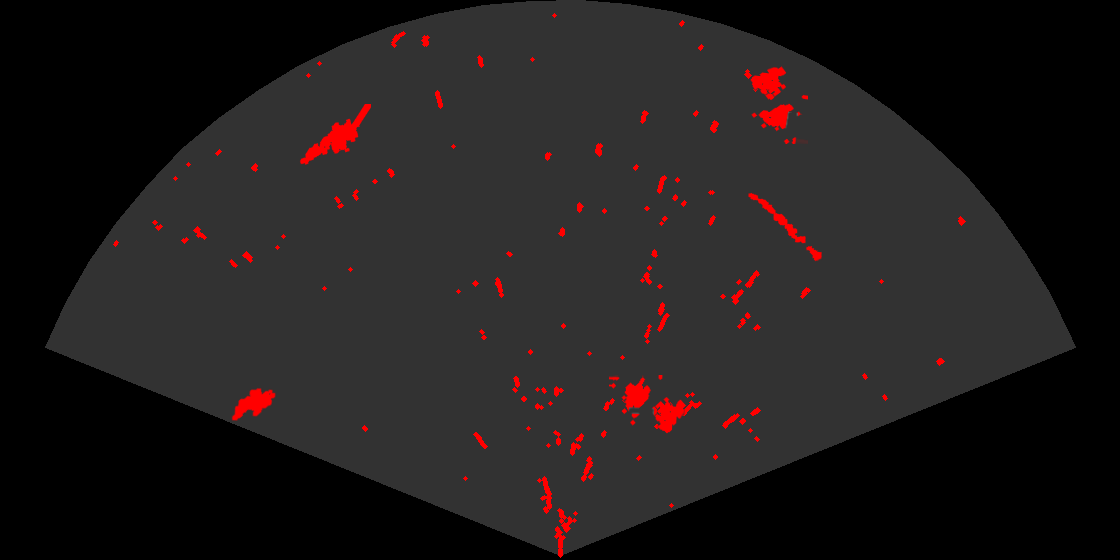AUV: (230, 386, 277, 422)
cage: (609, 375, 688, 435), (749, 65, 808, 144)
chain: (747, 191, 823, 263)
frogman: (298, 104, 371, 166)
